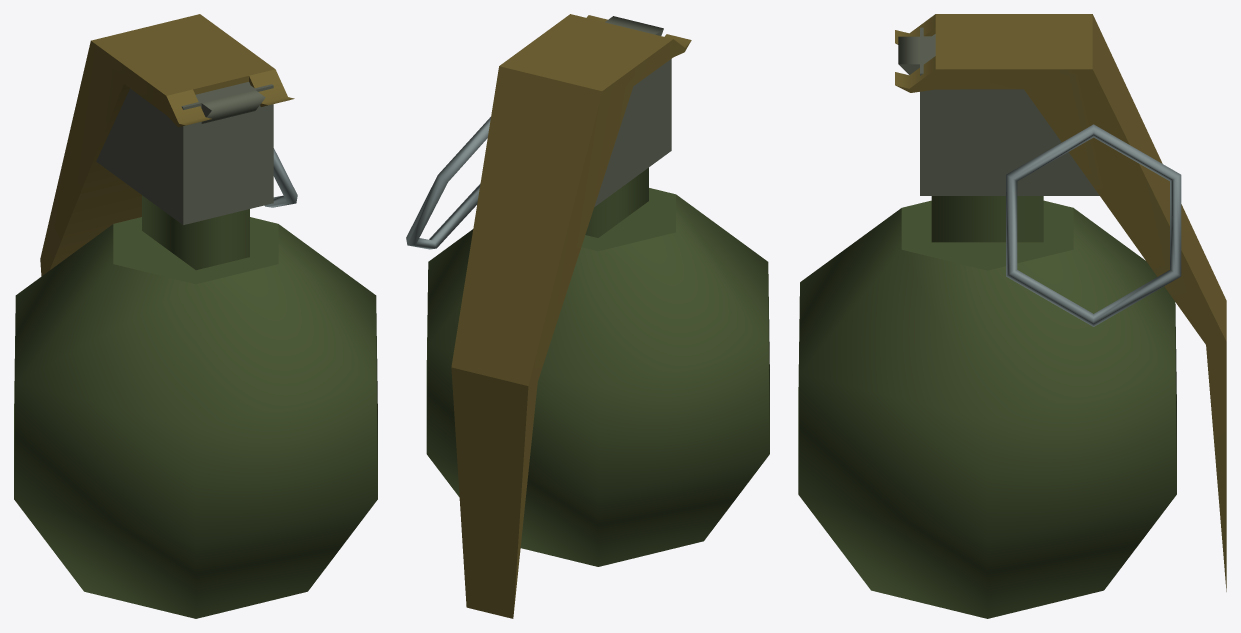
File: Weapon_Low_FragGrenade.FBX
3 views of the same model, side by side, from view 1: azimuth 30°, elevation 25°; view 2: azimuth 150°, elevation 25°; view 3: azimuth 270°, elevation 25° (orthographic). The views are drawn at different scales.
Parts seen in each view (by area): view 1: WeaponFragGrenade_Low; view 2: WeaponFragGrenade_Low; view 3: WeaponFragGrenade_Low.
Part boxes in pixels (left/top/right/bottom): WeaponFragGrenade_Low: left=14, top=14, right=377, bottom=618; WeaponFragGrenade_Low: left=406, top=14, right=769, bottom=618; WeaponFragGrenade_Low: left=798, top=14, right=1226, bottom=618.
Bounding box in the file's own units: 6.39 × 6.26 × 8.99.
